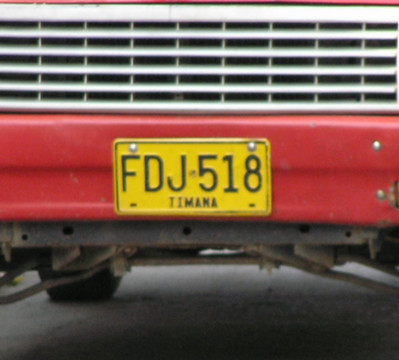placa_carro: (106, 131, 279, 224)
